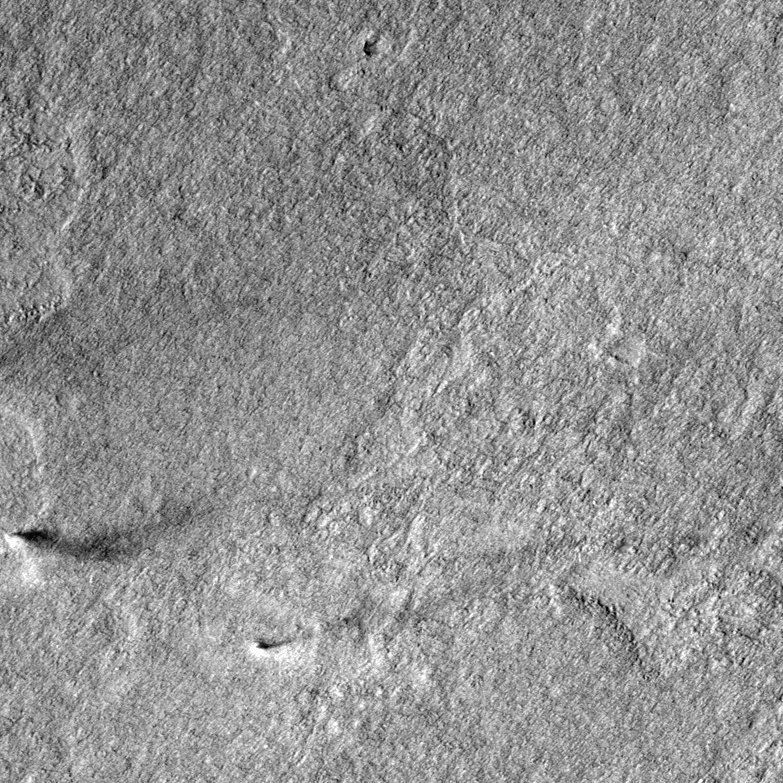dust_devil: (1, 498, 225, 586), (247, 633, 295, 660)
